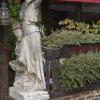Statue: (9, 2, 52, 94)
